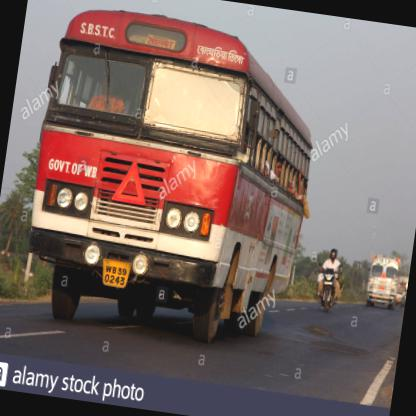bus: (24, 0, 228, 200)
motorcycle: (221, 136, 242, 176)
truck: (254, 140, 278, 176)
